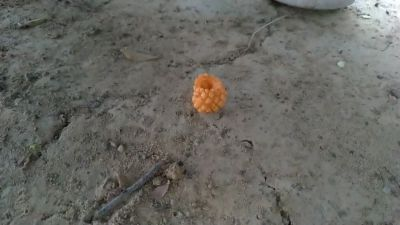eggs: (194, 69, 228, 118)
